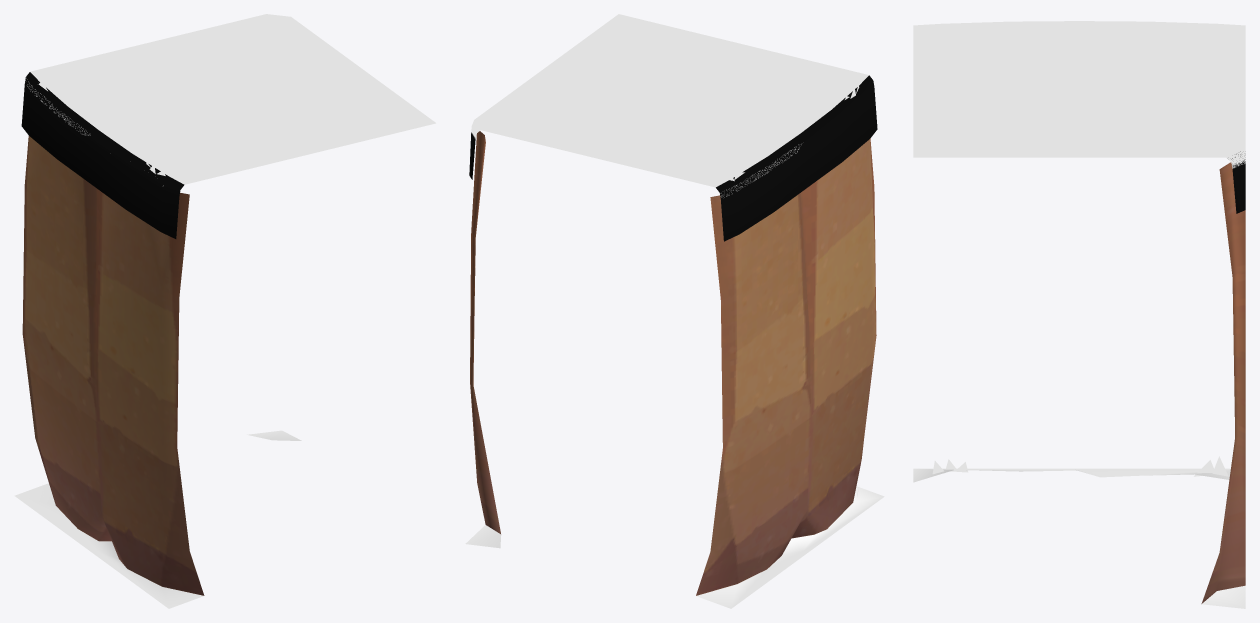
3 renders of one model, left to right at view 1: azimuth 30°, elevation 25°; view 2: azimuth 150°, elevation 25°; view 3: azimuth 270°, elevation 25°, orthographic. The views are drawn at different scales.
Parts seen in each view (by area): view 1: CliffD__mCliff, GrassT__mGrass, GrassOP_1__mGrassCliffXlu, GrassB_1__mGrass; view 2: CliffD__mCliff, GrassT__mGrass, GrassOP_1__mGrassCliffXlu, GrassB_1__mGrass; view 3: GrassT__mGrass, CliffD__mCliff, GrassB_1__mGrass, GrassOP_1__mGrassCliffXlu, PGrassBD__mProcGrass.
Boxes of the visible parts, <box> form: CliffD__mCliff: <box>22,136,204,595</box>; GrassT__mGrass: <box>25,14,435,185</box>; GrassOP_1__mGrassCliffXlu: <box>21,72,184,238</box>; GrassB_1__mGrass: <box>14,430,301,608</box>; CliffD__mCliff: <box>470,131,876,595</box>; GrassT__mGrass: <box>471,14,868,197</box>; GrassOP_1__mGrassCliffXlu: <box>469,75,877,241</box>; GrassB_1__mGrass: <box>465,486,884,608</box>; GrassT__mGrass: <box>913,21,1245,168</box>; CliffD__mCliff: <box>1201,162,1245,603</box>; GrassB_1__mGrass: <box>913,468,1245,608</box>; GrassOP_1__mGrassCliffXlu: <box>1231,151,1245,213</box>; PGrassBD__mProcGrass: <box>932,456,1228,476</box>.
Bounding box in the file's own units: 10 × 15.3 × 10.
4 materials, 1 textured.
